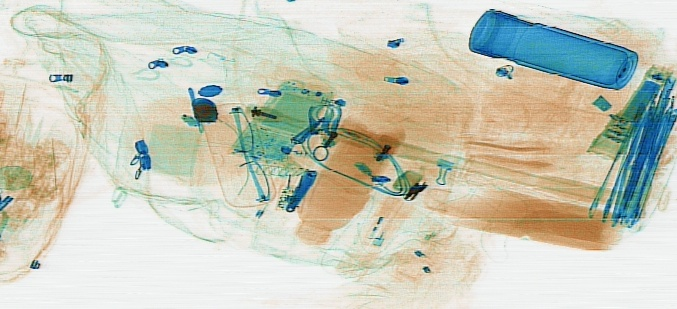lighter: (360, 192, 405, 247)
scissors: (307, 98, 343, 140)
